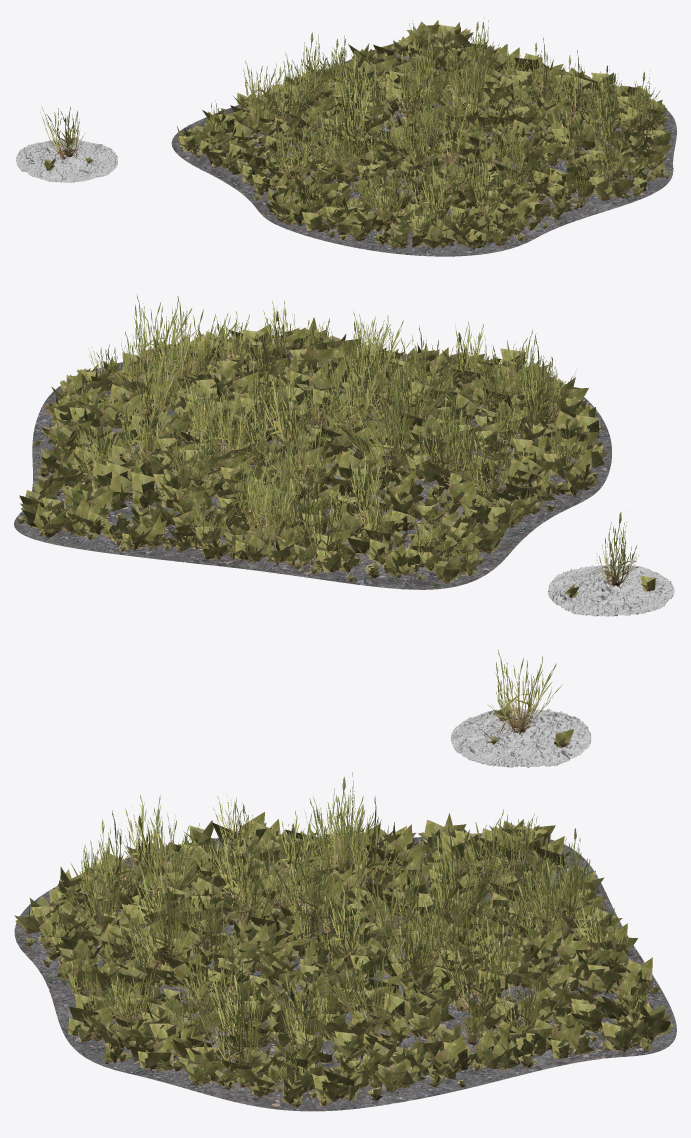
The model's file is rostlinka_07c_ske.FBX.
3 views of the same model, one above another, from view 1: azimuth 30°, elevation 25°; view 2: azimuth 150°, elevation 25°; view 3: azimuth 270°, elevation 25° (orthographic). The views are drawn at different scales.
Parts seen in each view (by area): view 1: Forest001, rostlinka_7c_scater, ground_close_04, rostlinka_07_ground, rostlinka_07c; view 2: Forest001, rostlinka_7c_scater, ground_close_04, rostlinka_07_ground, rostlinka_07c; view 3: Forest001, rostlinka_7c_scater, ground_close_04, rostlinka_07_ground, rostlinka_07c.
Boxes of the visible parts, x1,y1,x2,y2 form: Forest001: (177,20,671,249); rostlinka_7c_scater: (191,17,674,234); ground_close_04: (171,42,676,256); rostlinka_07_ground: (16,137,117,182); rostlinka_07c: (40,106,84,159); Forest001: (17,317,609,583); rostlinka_7c_scater: (59,294,593,564); ground_close_04: (14,335,611,589); rostlinka_07_ground: (548,564,674,616); rostlinka_07c: (596,512,638,589); Forest001: (14,812,673,1107); rostlinka_7c_scater: (46,772,651,1087); ground_close_04: (14,833,676,1111); rostlinka_07_ground: (450,706,591,767); rostlinka_07c: (487,649,562,734).
Size of the model in its own units: 89.27 by 17.75 by 65.73.
